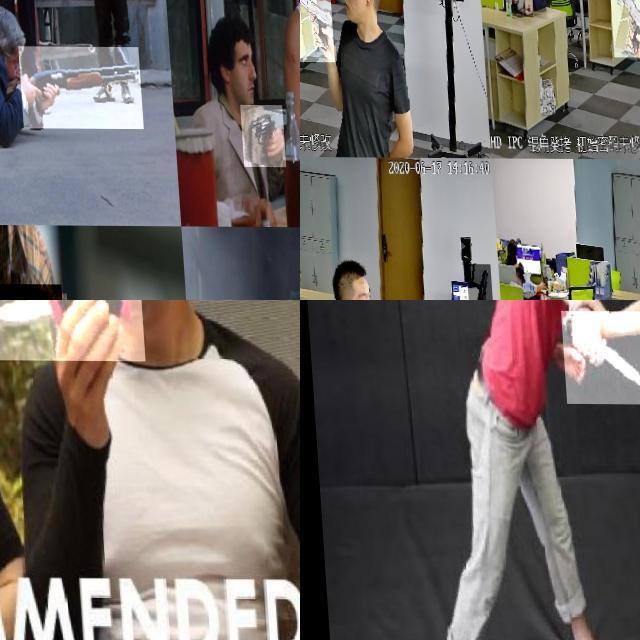-: (0, 300, 141, 360), (557, 310, 640, 403)
gun-knife-thesis - v11 Yolov5 augmented: (17, 46, 141, 129), (238, 105, 282, 167), (300, 0, 332, 62), (607, 0, 640, 57), (460, 263, 488, 300)
